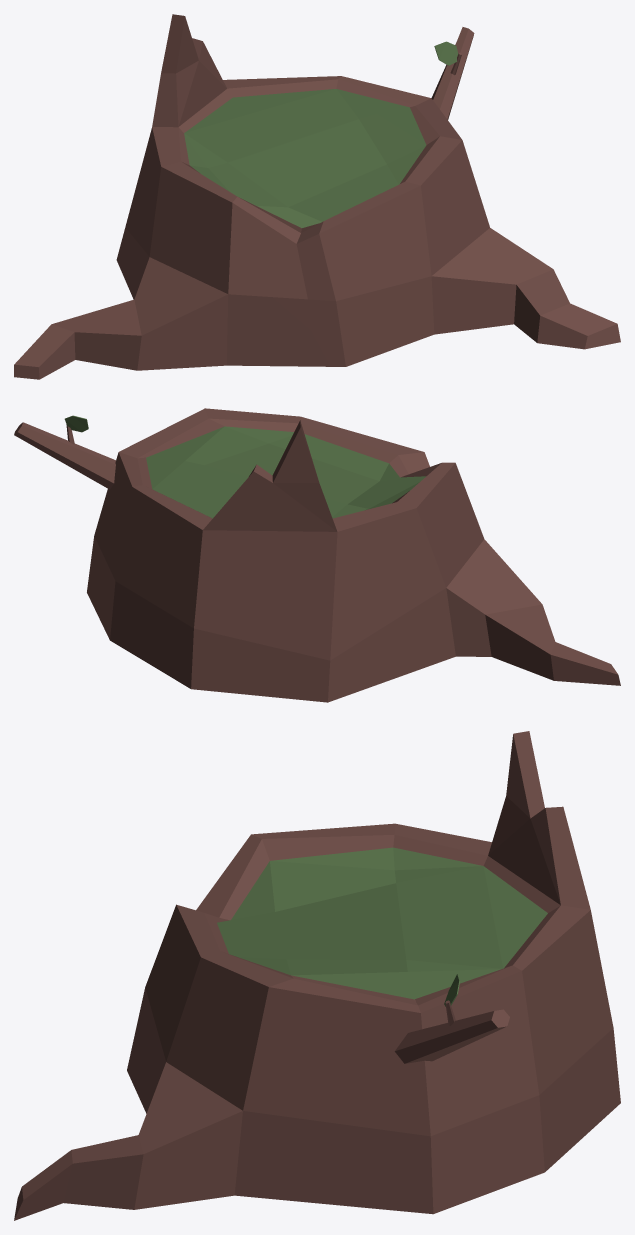
Rendered from tree_stump_moss.glb.
3 renders of one model, top to bottom at view 1: azimuth 30°, elevation 25°; view 2: azimuth 150°, elevation 25°; view 3: azimuth 270°, elevation 25°, orthographic. The views are drawn at different scales.
Parts seen in each view (by area): view 1: tree_stump_moss; view 2: tree_stump_moss; view 3: tree_stump_moss.
Boxes of the visible parts, x1=… form: tree_stump_moss: x1=14, y1=14, x2=620, y2=379; tree_stump_moss: x1=14, y1=408, x2=620, y2=702; tree_stump_moss: x1=14, y1=731, x2=620, y2=1220.
Size of the model in its own units: 1.36 by 0.6216 by 1.03.
1 material, 1 textured.
